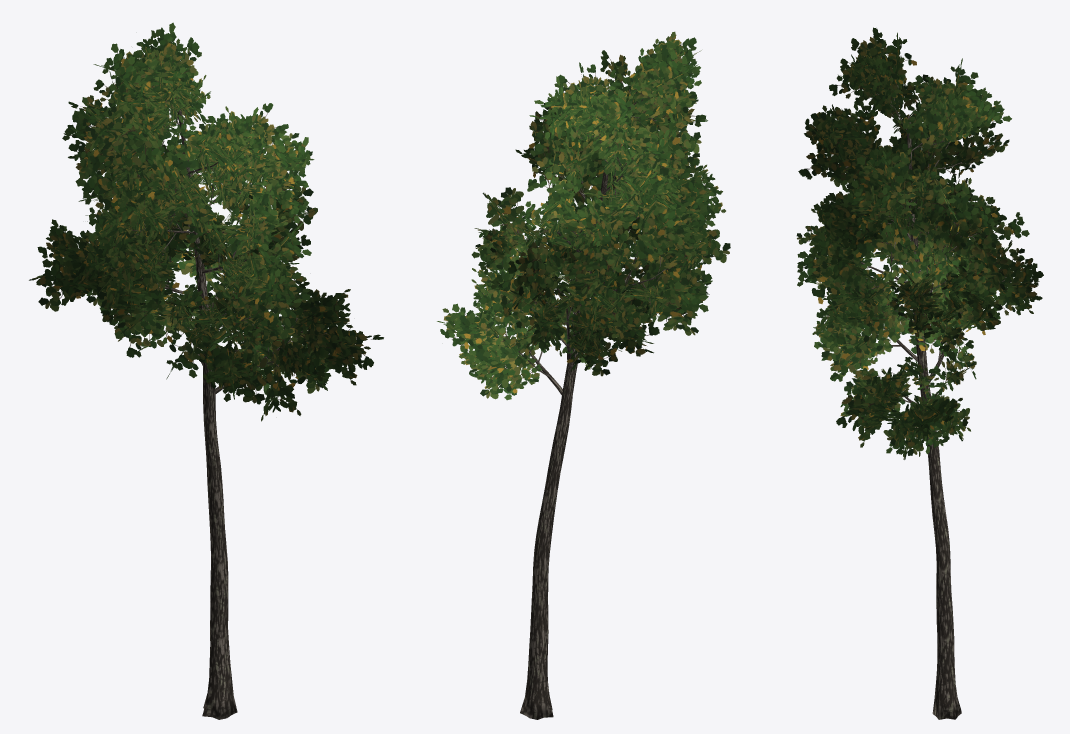
The model's file is tree-tall.glb.
3 renders of one model, left to right at view 1: azimuth 30°, elevation 25°; view 2: azimuth 150°, elevation 25°; view 3: azimuth 270°, elevation 25°, orthographic. The views are drawn at different scales.
Parts seen in each view (by area): view 1: foliage, tree-tall; view 2: foliage, tree-tall; view 3: foliage, tree-tall.
Part boxes in pixels (x1=…): foliage: x1=29, y1=22, x2=383, y2=421; tree-tall: x1=111, y1=98, x2=326, y2=719; foliage: x1=437, y1=31, x2=730, y2=400; tree-tall: x1=486, y1=79, x2=680, y2=719; foliage: x1=796, y1=27, x2=1043, y2=459; tree-tall: x1=845, y1=76, x2=1004, y2=719.
Size of the model in its own units: 6.75 by 14.83 by 5.75.
2 materials, 2 textured.
